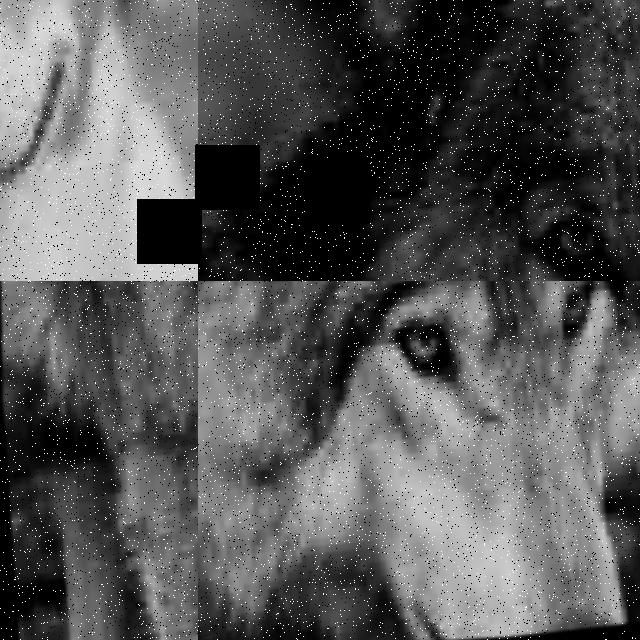dog: (0, 0, 198, 281)
wolf: (198, 281, 640, 640), (198, 0, 640, 281), (0, 281, 198, 640)
